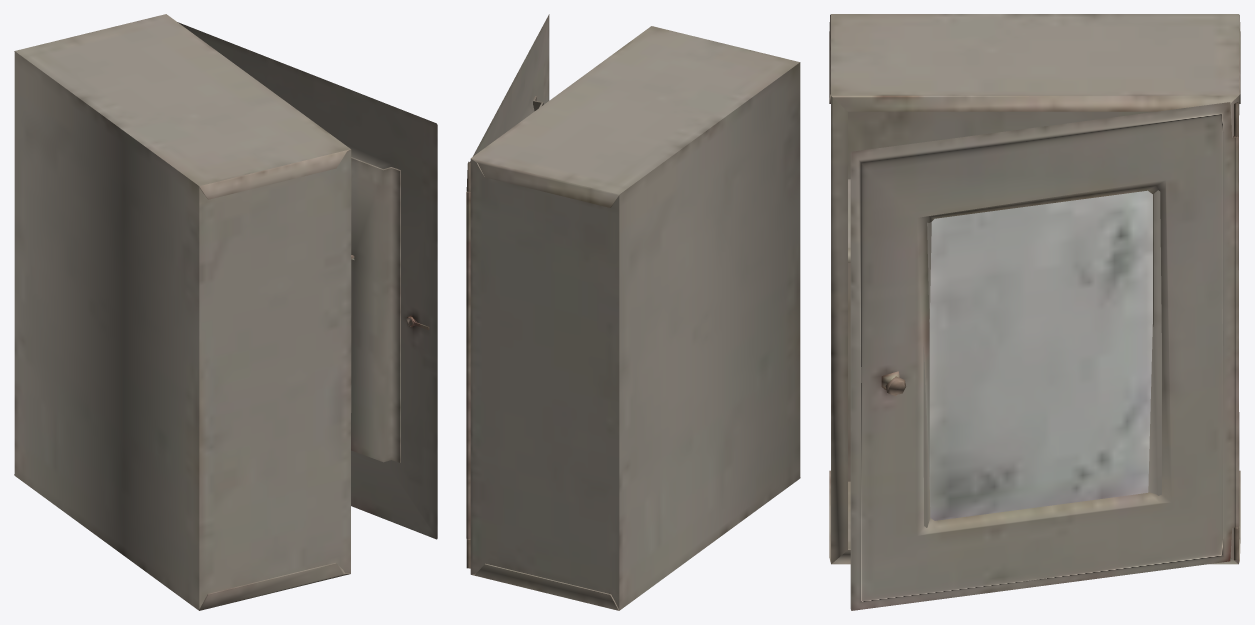
The model's file is bw-mirror.lod0.glb.
3 renders of one model, left to right at view 1: azimuth 30°, elevation 25°; view 2: azimuth 150°, elevation 25°; view 3: azimuth 270°, elevation 25°, orthographic. The views are drawn at different scales.
Visible parts, largest first — view 1: Object_4; view 2: Object_4; view 3: Object_4.
Boxes of the visible parts, bbox=[...] form: Object_4: bbox=[14, 14, 437, 610]; Object_4: bbox=[466, 14, 800, 610]; Object_4: bbox=[829, 14, 1240, 610].
Bounding box in the file's own units: 0.29 × 0.45 × 0.3579.
1 material, 1 textured.
